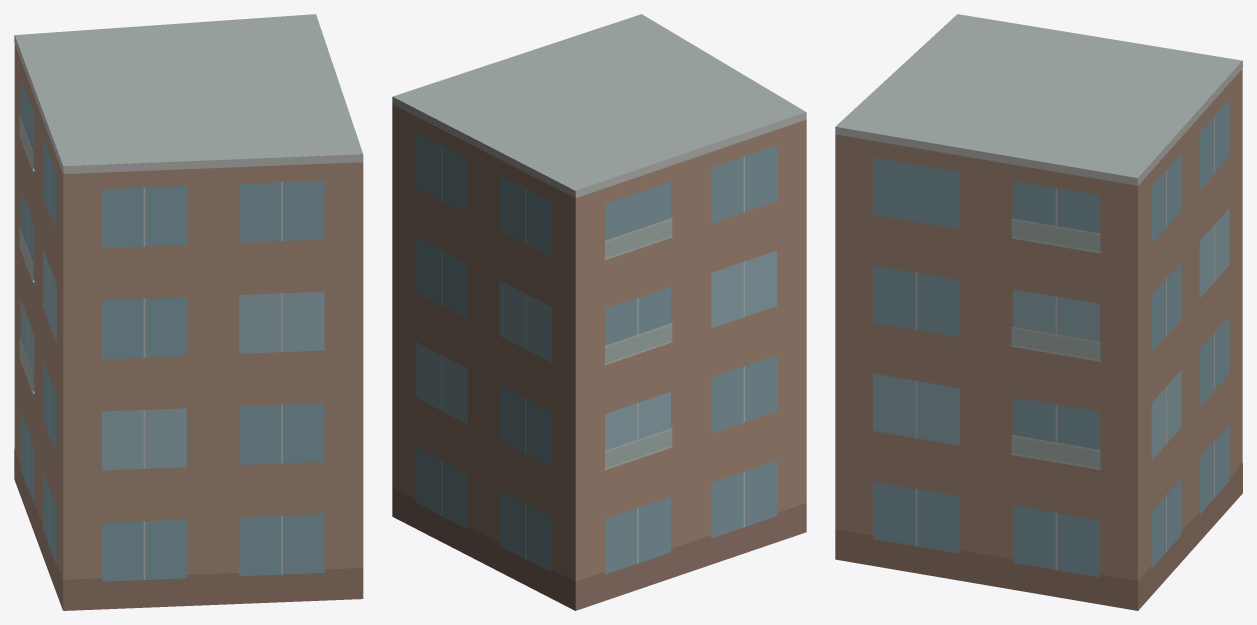
File: survey-upis-32834712.glb
3 renders of one model, left to right at view 1: azimuth 30°, elevation 25°; view 2: azimuth 150°, elevation 25°; view 3: azimuth 270°, elevation 25°, orthographic. The views are drawn at different scales.
Visible parts, largest first — view 1: survey-upis-32834712.tmp; view 2: survey-upis-32834712.tmp; view 3: survey-upis-32834712.tmp.
Boxes of the visible parts, x1=… form: survey-upis-32834712.tmp: x1=14, y1=14, x2=363, y2=610; survey-upis-32834712.tmp: x1=392, y1=14, x2=806, y2=610; survey-upis-32834712.tmp: x1=835, y1=14, x2=1242, y2=610.
Size of the model in its own units: 11.19 by 13.75 by 11.74.
